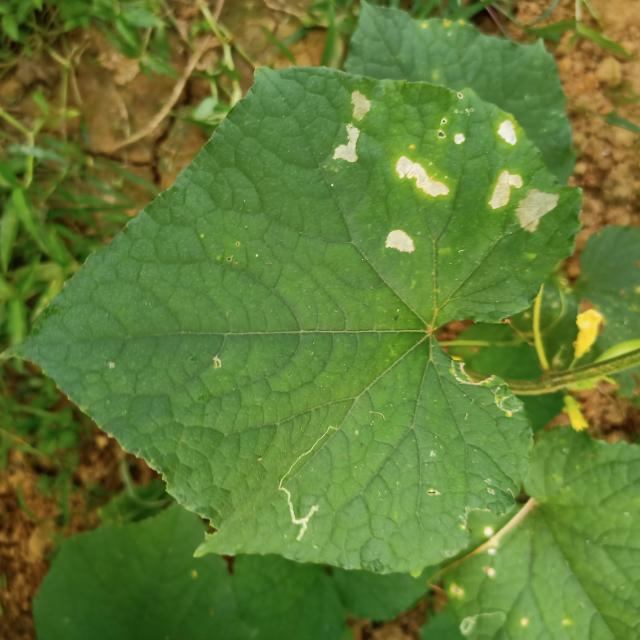disease_cucumber: (485, 110, 561, 232), (394, 116, 473, 204), (329, 81, 377, 168), (383, 220, 418, 260)
